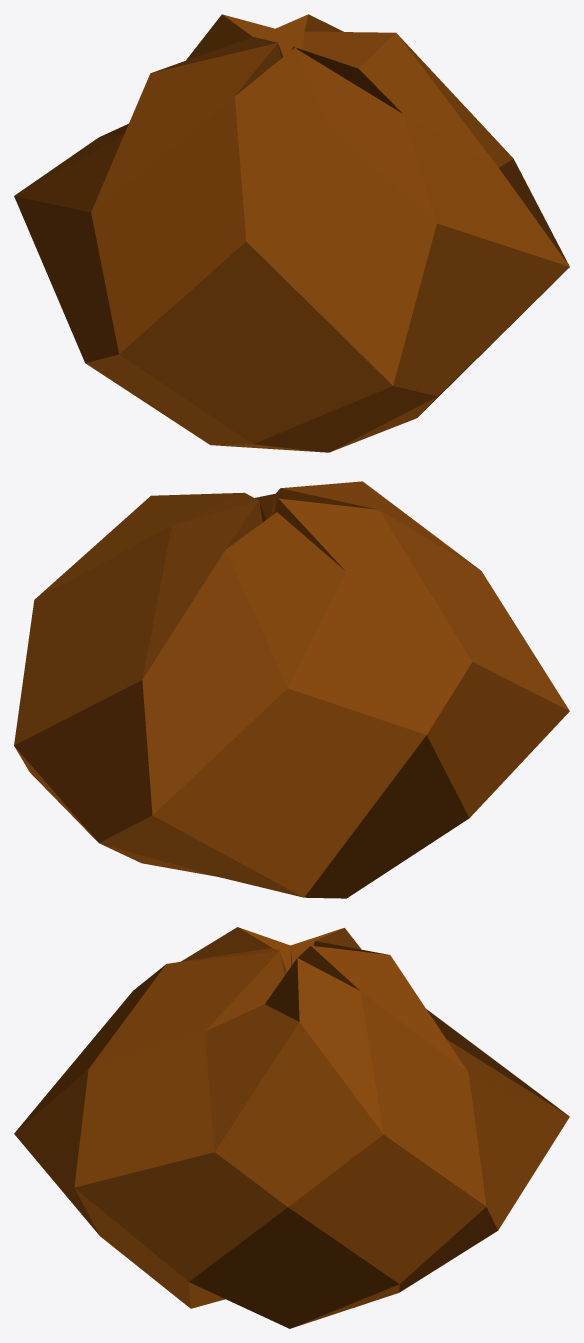
File: Roca 8.fbx
3 views of the same model, one above another, from view 1: azimuth 30°, elevation 25°; view 2: azimuth 150°, elevation 25°; view 3: azimuth 270°, elevation 25° (orthographic). The views are drawn at different scales.
Visible parts, largest first — view 1: ROCA 8; view 2: ROCA 8; view 3: ROCA 8.
Boxes of the visible parts, <box> form: ROCA 8: <box>14,14,569,452</box>; ROCA 8: <box>14,481,569,898</box>; ROCA 8: <box>14,927,569,1328</box>.
Size of the model in its own units: 228 by 174 by 261.
